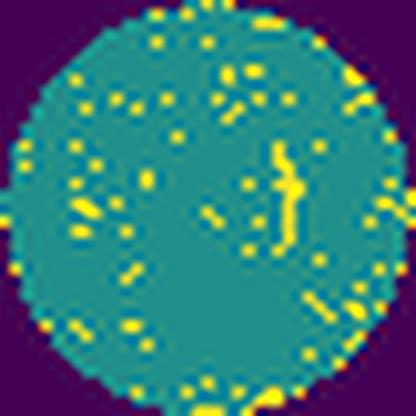Scratch: (268, 136, 312, 262)
